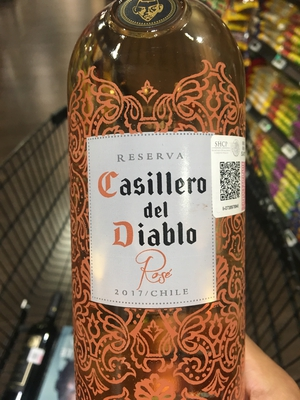casillero del diablo rose: (64, 2, 258, 400)
